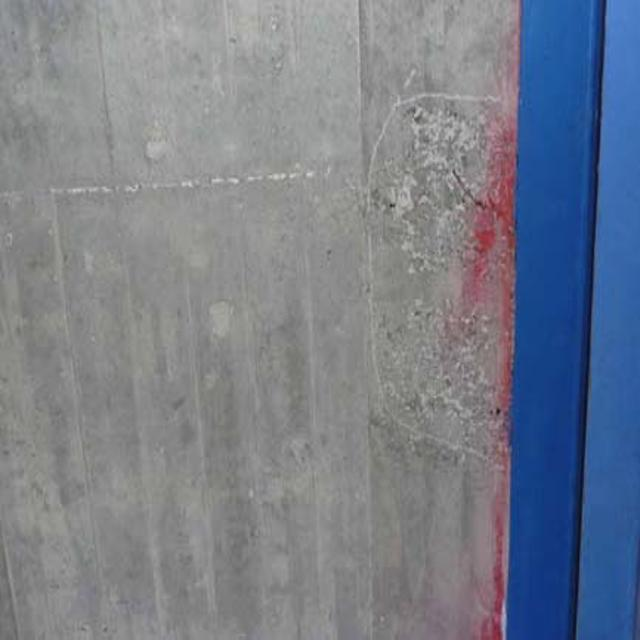spalling: (383, 88, 528, 463)
